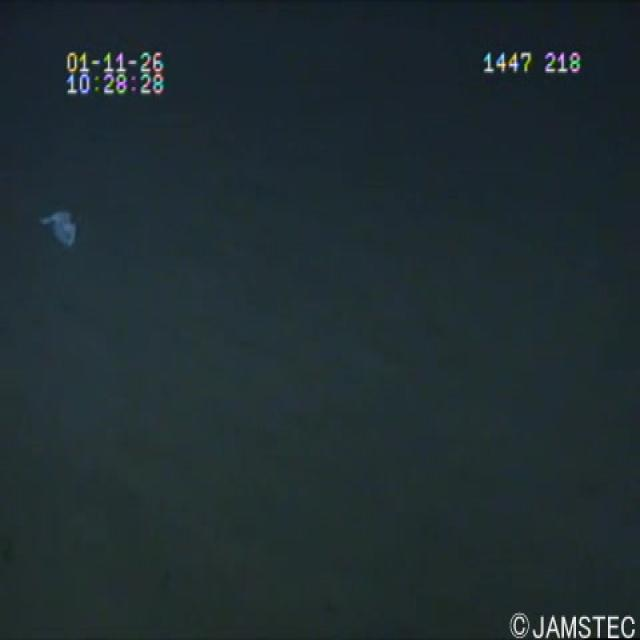plastic: (32, 196, 91, 266)
